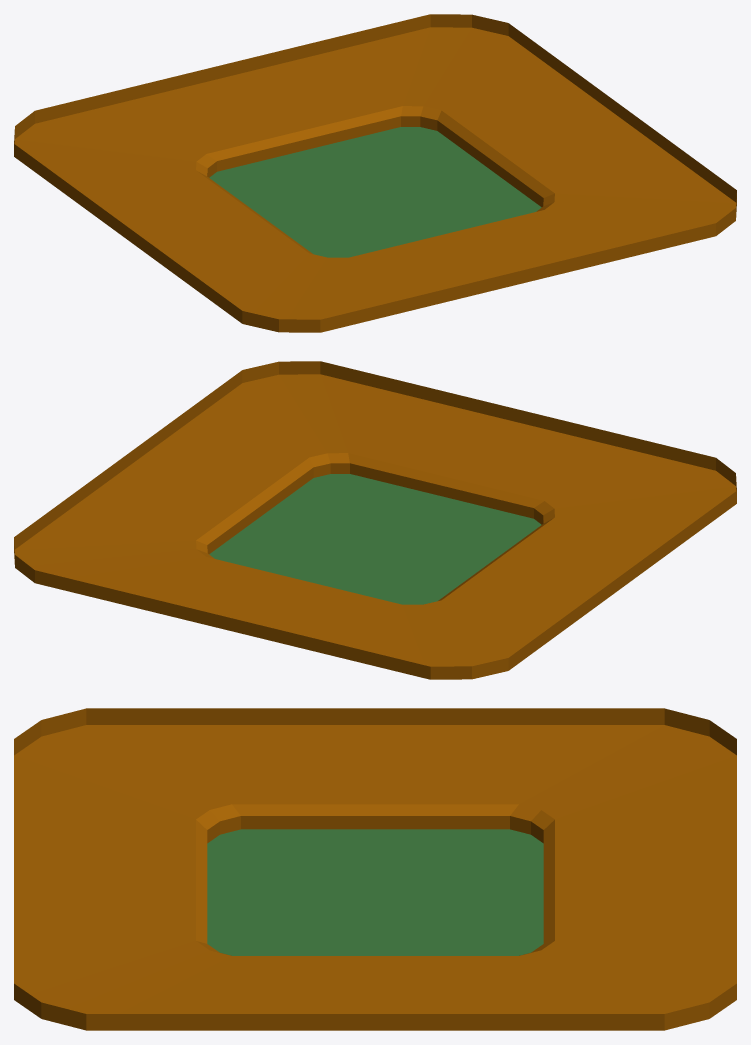
The model's file is BackgroundBorder.fbx.
The picture shows the model from 3 angles, top to bottom: view 1: azimuth 30°, elevation 25°; view 2: azimuth 150°, elevation 25°; view 3: azimuth 270°, elevation 25°; orthographic projection. The views are drawn at different scales.
Parts seen in each view (by area): view 1: polySurface7; view 2: polySurface7; view 3: polySurface7.
Part boxes in pixels (x1,y1,x2,y2): polySurface7: (14,14,736,332); polySurface7: (14,361,736,679); polySurface7: (14,708,736,1030).
Bounding box in the file's own units: 5.75 × 0.3447 × 5.75.
